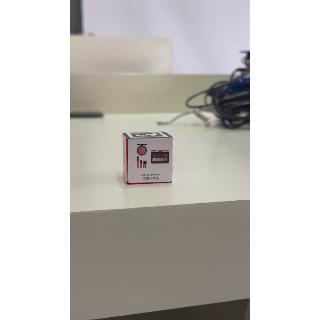Expired_Cosmetic: (130, 141, 175, 186)
